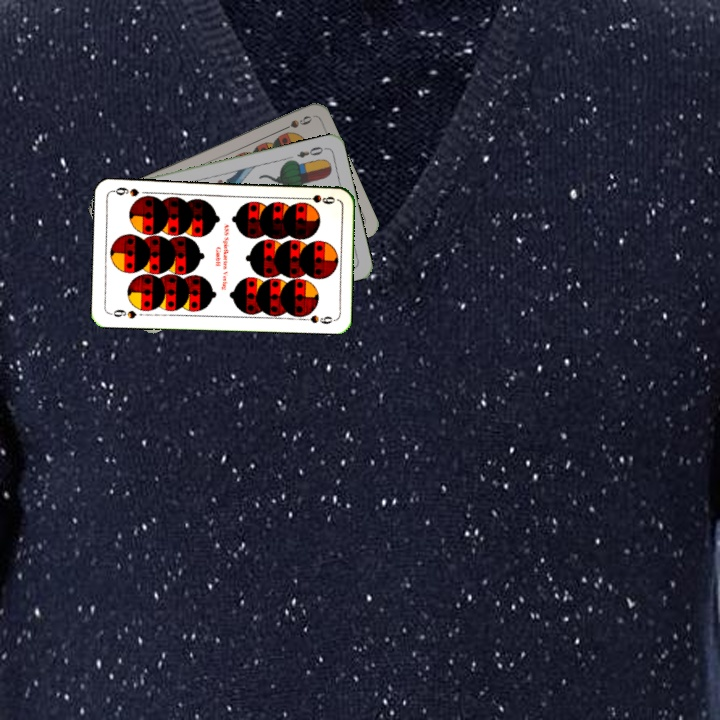EO: (293, 142, 329, 160)
S9: (275, 111, 315, 134), (298, 190, 337, 207), (106, 305, 139, 321)
